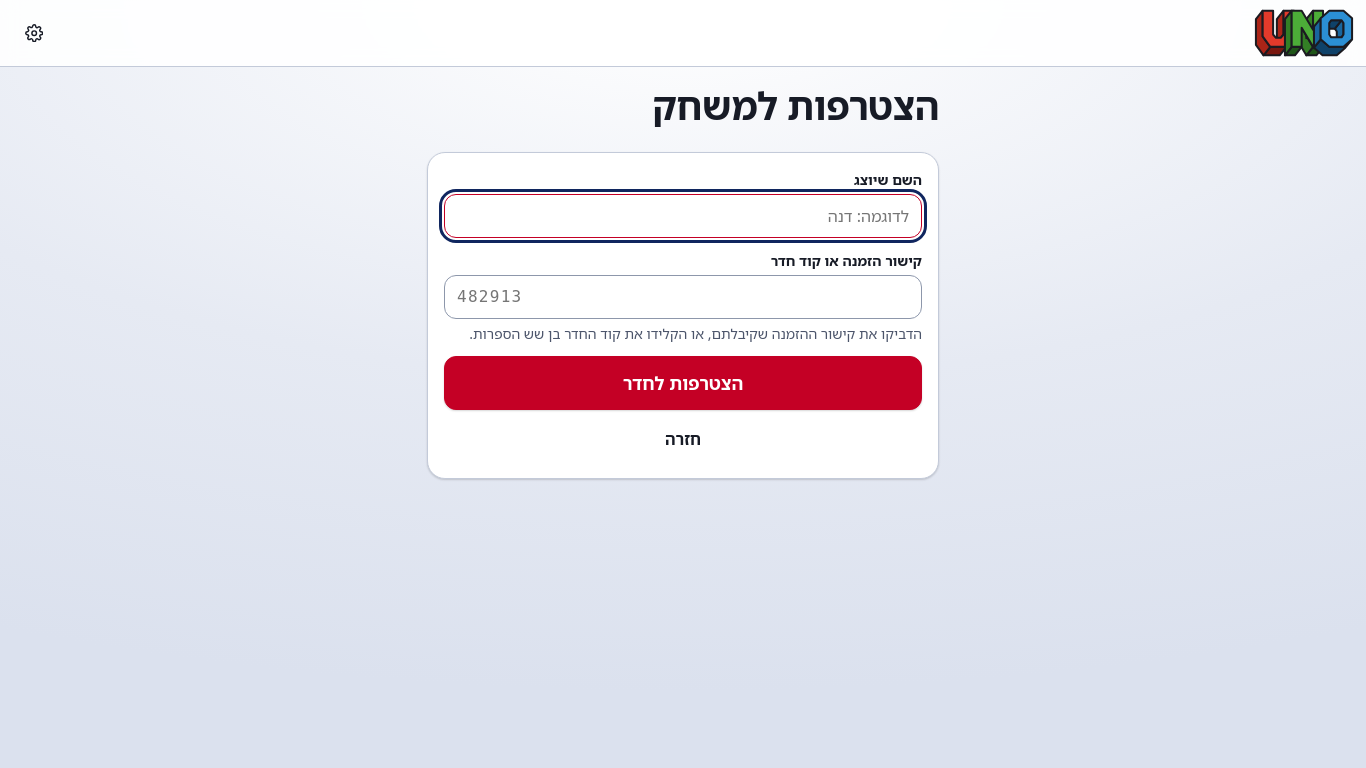
join room form › reports both problems at once
What coordinates should you click on to do the following:
click the button "הצטרפות לחדר"
I would click on:
 (683, 383)
Its box is left=444, top=356, right=922, bottom=410.
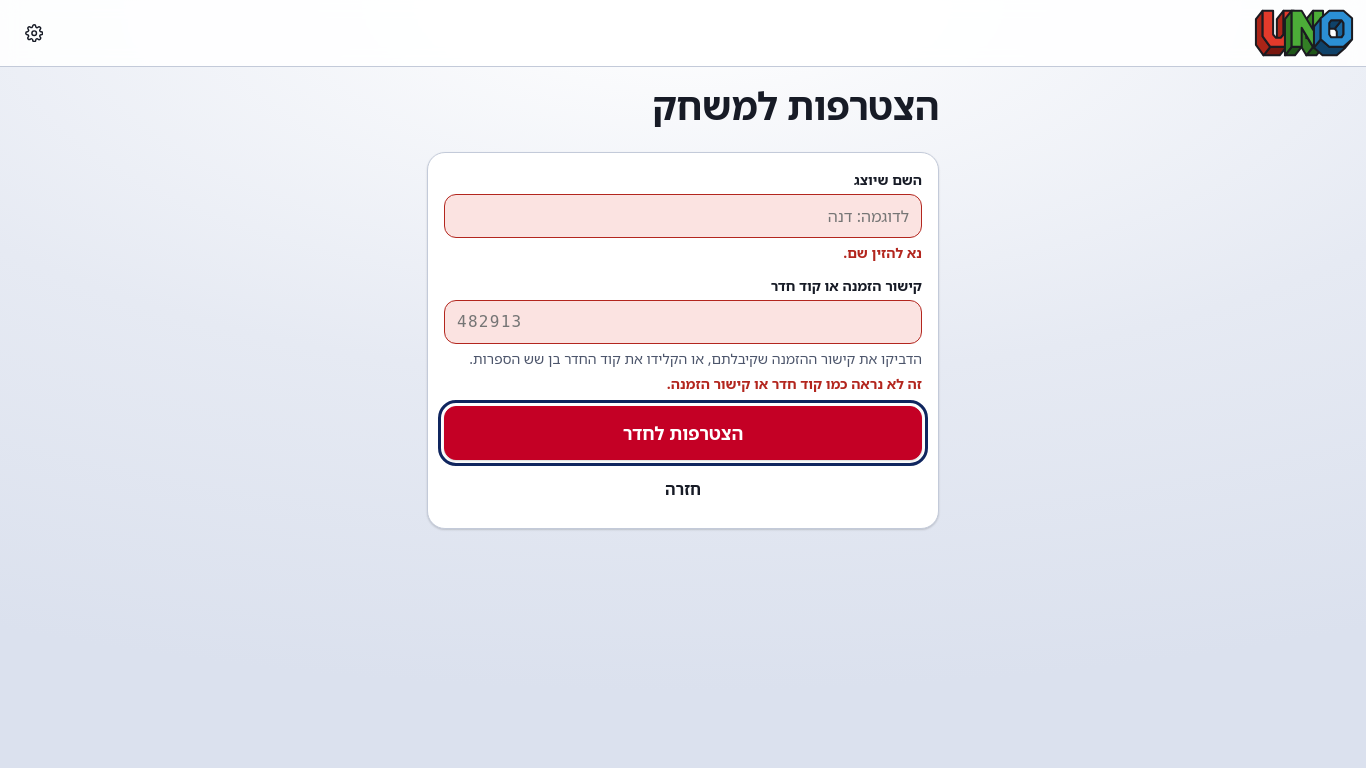
Now the number of messages is 2, box left=843, top=243, right=922, bottom=262; left=667, top=374, right=922, bottom=393
